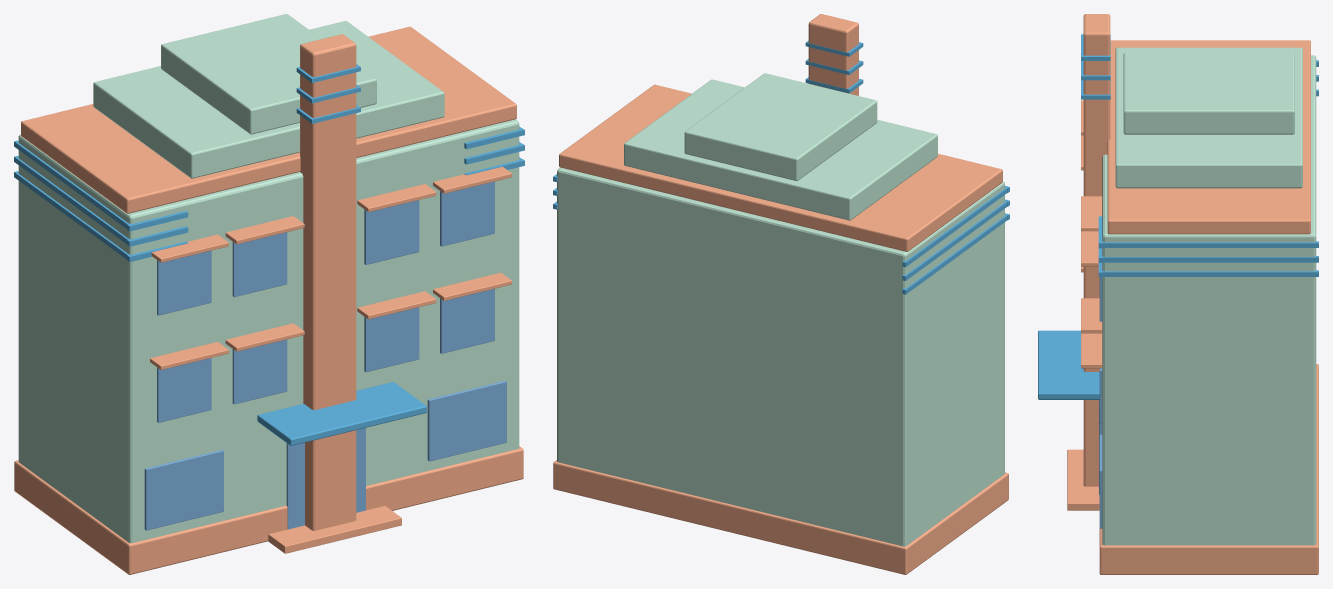
Rendered from deco_hotel_mint.glb.
The picture shows the model from 3 angles, left to right: view 1: azimuth 30°, elevation 25°; view 2: azimuth 150°, elevation 25°; view 3: azimuth 270°, elevation 25°; orthographic projection. The views are drawn at different scales.
Parts seen in each view (by area): view 1: body, fin, step0, step1, base, step2, canopy, gwin-2.9, gwin2.9, win0-1.35, win1-1.35, win11.35 (+18 smaller); view 2: body, step0, step1, step2, base, fin, speed-11, speed-10, speed-12; view 3: body, step2, step0, step1, base, fin, canopy, step, speed11, speed10, speed12, brow02.9 (+4 smaller).
Boxes of the visible parts, left/top/right/bottom form: body: left=18, top=119, right=519, bottom=543; fin: left=300, top=34, right=356, bottom=530; step0: left=21, top=26, right=516, bottom=213; step1: left=93, top=21, right=444, bottom=178; base: left=14, top=446, right=523, bottom=574; step2: left=161, top=14, right=376, bottom=134; canopy: left=257, top=382, right=426, bottom=445; gwin-2.9: left=144, top=449, right=223, bottom=530; gwin2.9: left=427, top=380, right=506, bottom=461; win0-1.35: left=232, top=339, right=287, bottom=404; win1-1.35: left=232, top=232, right=287, bottom=297; win11.35: left=364, top=200, right=419, bottom=264; body: left=557, top=167, right=1004, bottom=546; step0: left=559, top=84, right=1002, bottom=251; step1: left=624, top=79, right=937, bottom=220; step2: left=684, top=73, right=877, bottom=180; base: left=553, top=460, right=1008, bottom=574; fin: left=808, top=14, right=858, bottom=95; speed-11: left=902, top=200, right=1007, bottom=280; speed-10: left=902, top=214, right=1008, bottom=294; speed-12: left=902, top=186, right=1008, bottom=267; body: left=1102, top=55, right=1316, bottom=545; step2: left=1123, top=52, right=1294, bottom=134; step0: left=1107, top=40, right=1310, bottom=234; step1: left=1115, top=47, right=1302, bottom=188; base: left=1099, top=364, right=1318, bottom=574; fin: left=1083, top=14, right=1110, bottom=486; canopy: left=1038, top=330, right=1099, bottom=399; step: left=1067, top=449, right=1099, bottom=510; speed11: left=1099, top=256, right=1318, bottom=262; speed10: left=1099, top=270, right=1318, bottom=276; speed12: left=1099, top=241, right=1318, bottom=247; brow02.9: left=1081, top=333, right=1102, bottom=368.
Bounding box in the file's own units: 8.1 × 9.5 × 5.25.
